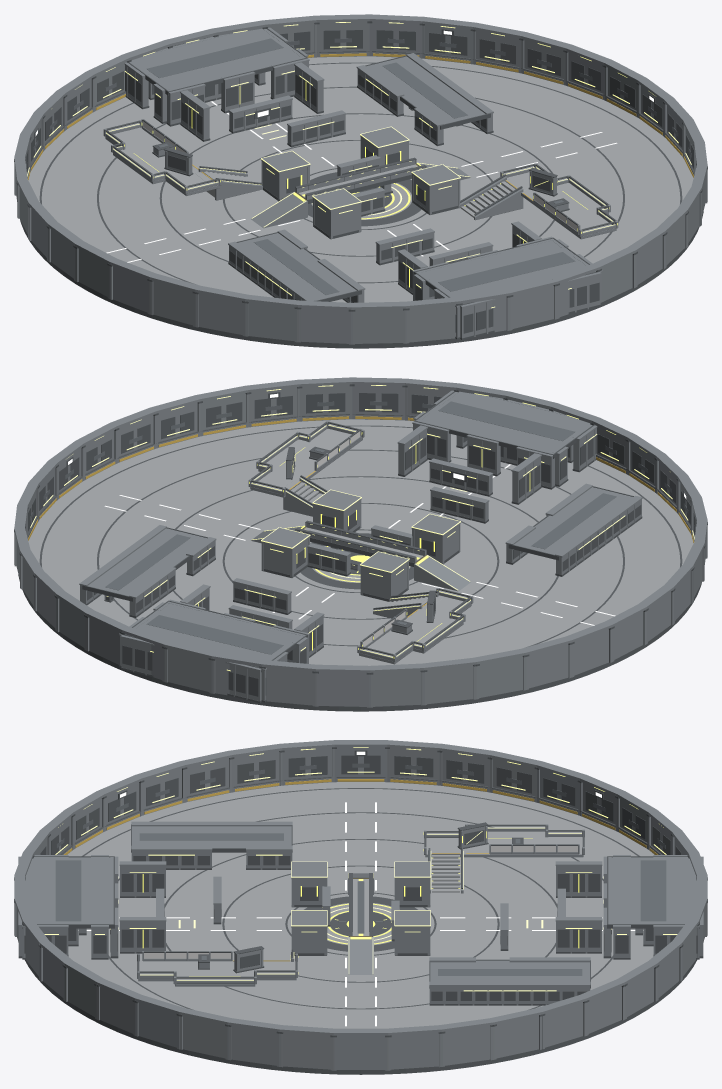
File: concourse_v2_environment.glb
The picture shows the model from 3 angles, top to bottom: view 1: azimuth 30°, elevation 25°; view 2: azimuth 150°, elevation 25°; view 3: azimuth 270°, elevation 25°; orthographic projection.
Parts seen in each view (by area): view 1: STRUCT_Gunmetal, FLOOR_Concourse, SYSTEMS_DarkSteel, GRATE_Vent, LIGHT_Amber, HAZARD_Stripe, LIGHT_White; view 2: STRUCT_Gunmetal, FLOOR_Concourse, SYSTEMS_DarkSteel, GRATE_Vent, LIGHT_Amber, HAZARD_Stripe, LIGHT_White; view 3: STRUCT_Gunmetal, FLOOR_Concourse, SYSTEMS_DarkSteel, GRATE_Vent, LIGHT_Amber, HAZARD_Stripe, GLASS_Ballistic, LIGHT_White.
Boxes of the visible parts, x1=… form: STRUCT_Gunmetal: x1=14, y1=14, x2=707, y2=344; FLOOR_Concourse: x1=28, y1=56, x2=693, y2=302; SYSTEMS_DarkSteel: x1=14, y1=21, x2=707, y2=348; GRATE_Vent: x1=26, y1=38, x2=691, y2=294; LIGHT_Amber: x1=27, y1=22, x2=691, y2=308; HAZARD_Stripe: x1=27, y1=53, x2=693, y2=200; LIGHT_White: x1=35, y1=30, x2=653, y2=262; STRUCT_Gunmetal: x1=14, y1=377, x2=707, y2=707; FLOOR_Concourse: x1=28, y1=419, x2=693, y2=665; SYSTEMS_DarkSteel: x1=14, y1=384, x2=707, y2=711; GRATE_Vent: x1=30, y1=401, x2=695, y2=654; LIGHT_Amber: x1=30, y1=385, x2=694, y2=671; HAZARD_Stripe: x1=28, y1=416, x2=694, y2=617; LIGHT_White: x1=68, y1=393, x2=686, y2=625; STRUCT_Gunmetal: x1=14, y1=740, x2=707, y2=1070; FLOOR_Concourse: x1=67, y1=782, x2=654, y2=1028; SYSTEMS_DarkSteel: x1=14, y1=747, x2=707, y2=1074; GRATE_Vent: x1=55, y1=763, x2=666, y2=975; LIGHT_Amber: x1=44, y1=747, x2=677, y2=991; HAZARD_Stripe: x1=64, y1=779, x2=657, y2=961; GLASS_Ballistic: x1=144, y1=846, x2=577, y2=958; LIGHT_White: x1=78, y1=751, x2=643, y2=1026.
Bounding box in the file's own units: 121 × 8.23 × 121.
